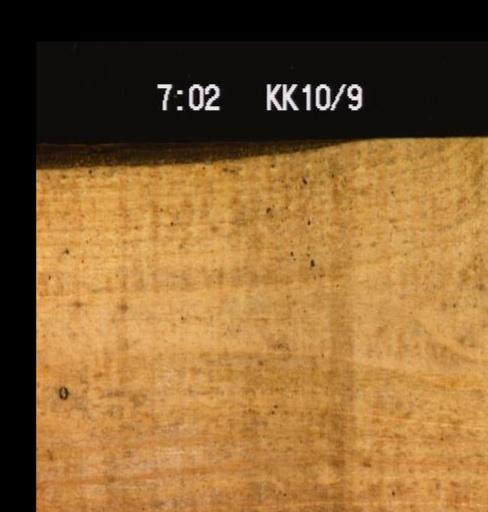dry_knot: (57, 382, 69, 400)
wave: (36, 139, 358, 168)
